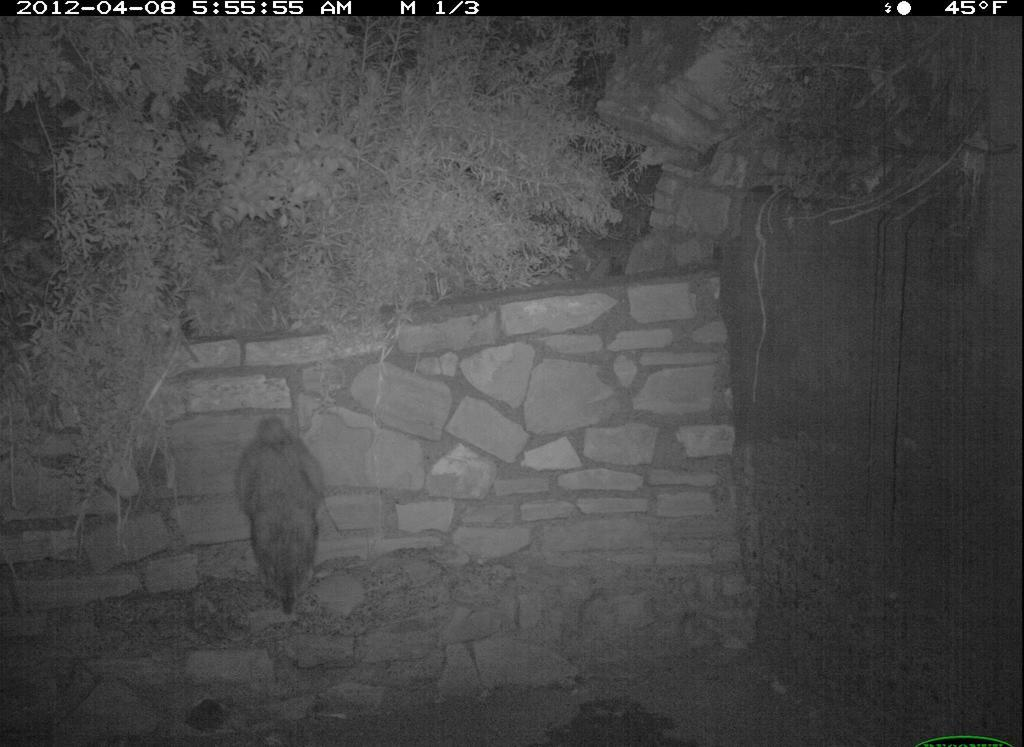raccoon: (226, 411, 340, 617)
